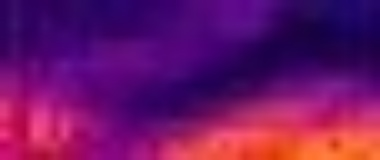Shadow: (1, 1, 379, 126)
